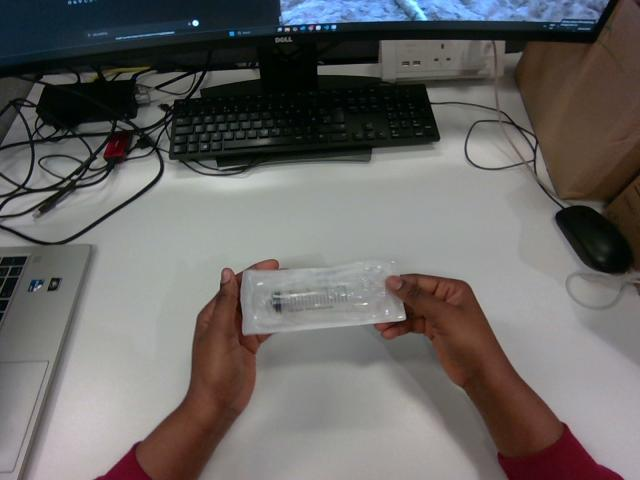syringe: (241, 261, 405, 334)
